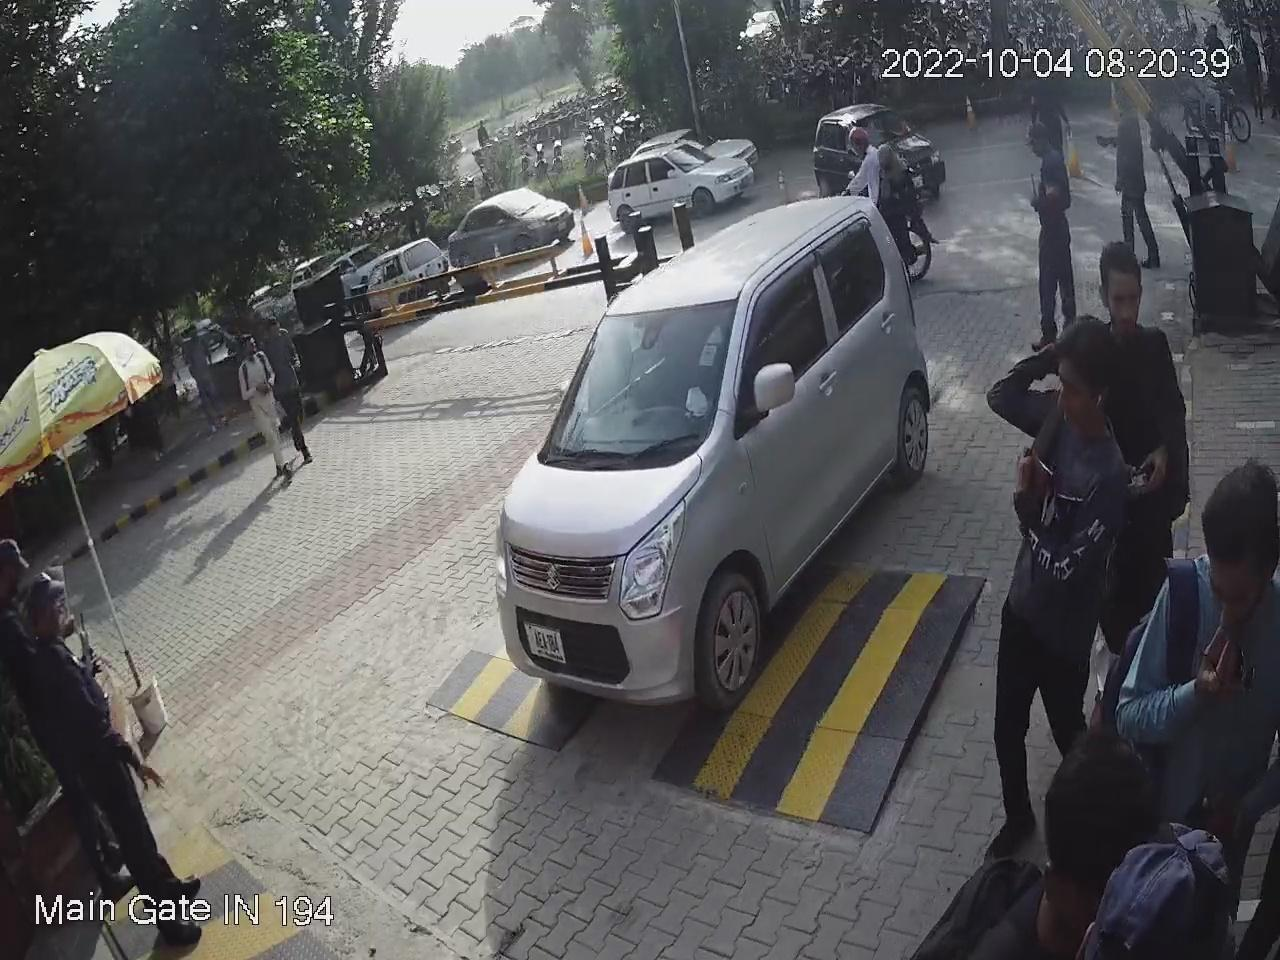windshield: (535, 292, 751, 463)
